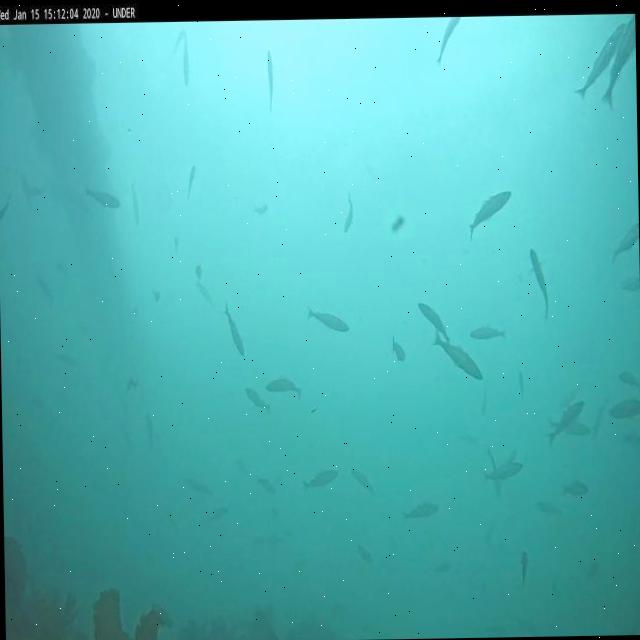fish: (574, 20, 628, 104), (600, 15, 636, 106), (431, 329, 484, 381), (468, 188, 511, 240), (416, 296, 452, 346), (548, 398, 584, 444), (528, 247, 548, 323), (222, 304, 246, 359), (307, 305, 349, 335), (435, 18, 462, 62), (610, 222, 638, 262), (264, 374, 302, 402), (84, 184, 120, 212), (550, 416, 590, 438), (242, 384, 272, 413), (483, 460, 522, 482), (486, 445, 502, 495), (303, 467, 336, 491), (608, 396, 640, 420), (185, 474, 217, 498), (404, 498, 437, 521), (350, 465, 374, 494), (470, 322, 504, 340), (532, 499, 566, 516), (254, 474, 276, 499), (266, 52, 274, 116), (130, 183, 142, 224), (196, 280, 214, 306), (342, 192, 353, 232), (181, 30, 189, 85), (562, 480, 586, 498), (356, 540, 371, 566), (617, 370, 638, 388), (391, 336, 406, 361), (0, 191, 11, 223), (187, 164, 196, 200), (620, 276, 638, 292), (254, 200, 268, 213)
